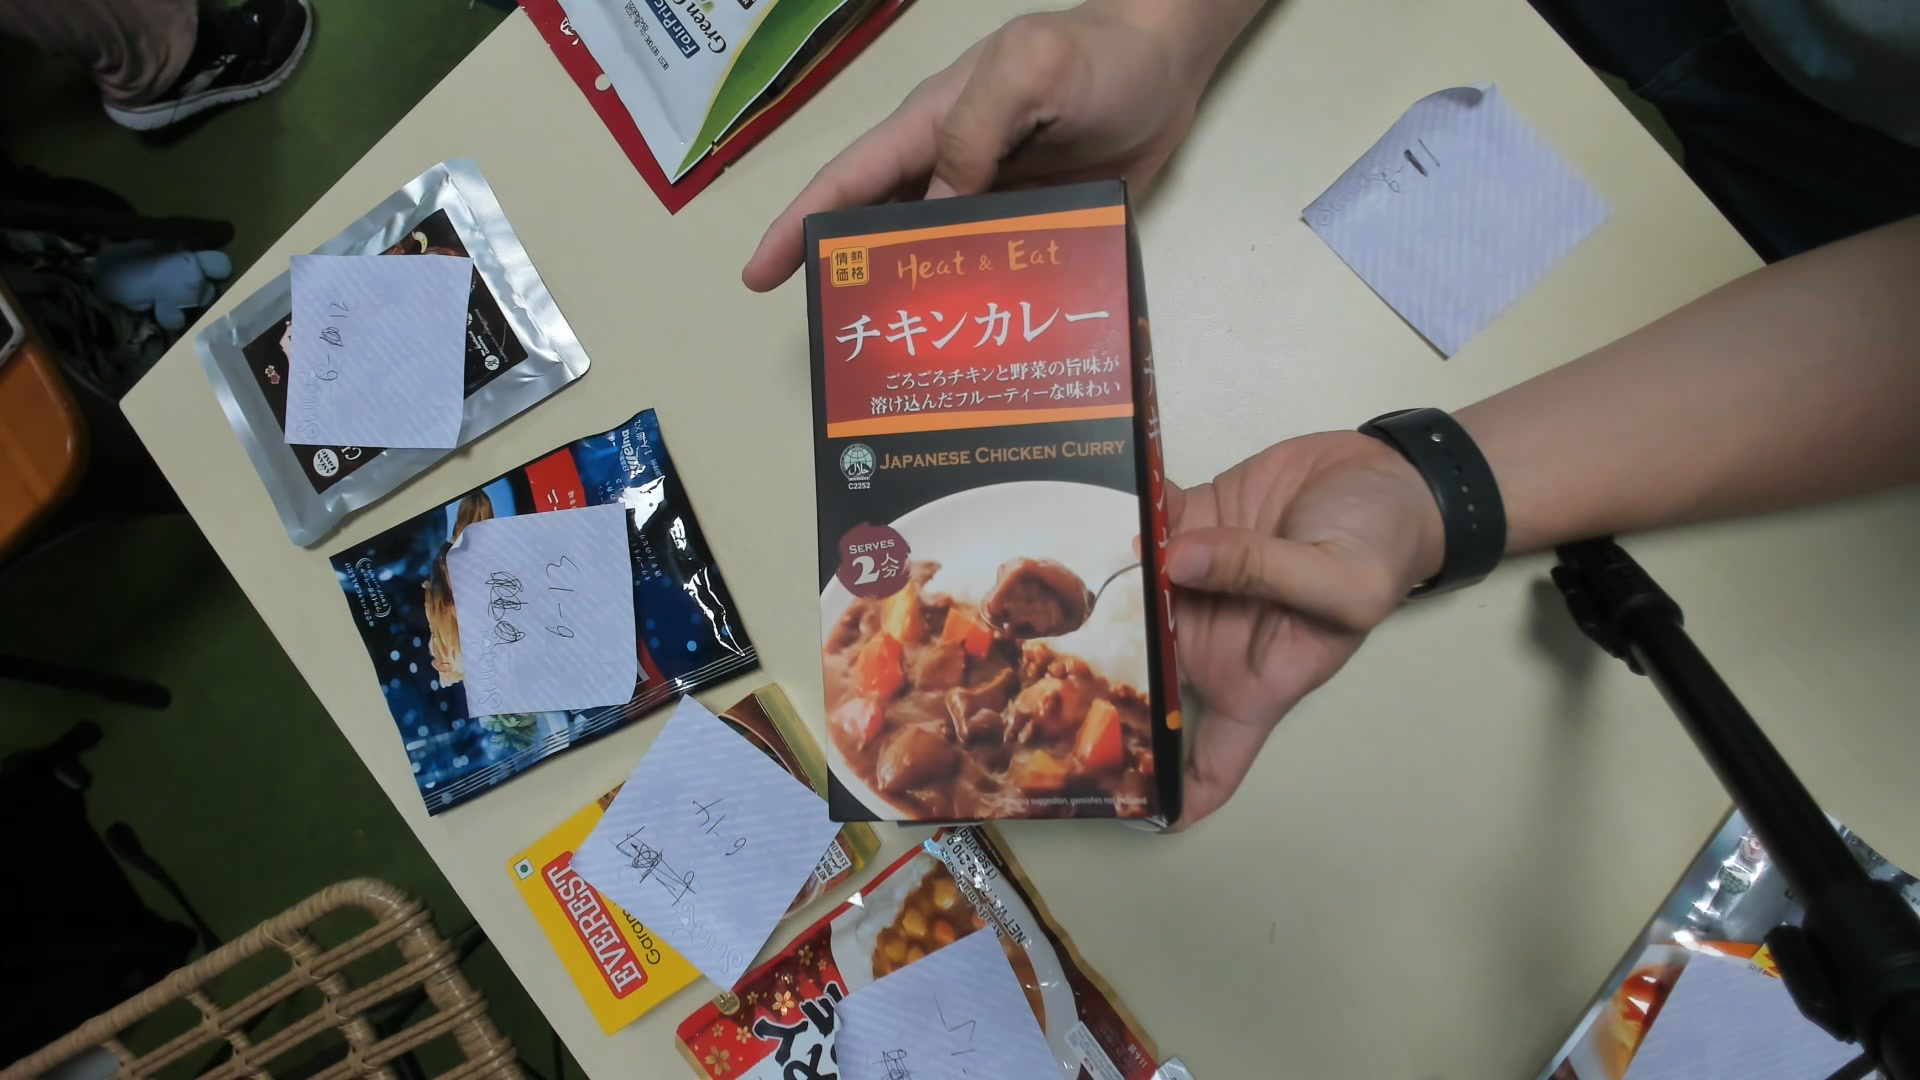CurryPastePowderSauce_200-299g_Halal_NonHealthy: (812, 185, 1188, 825)
